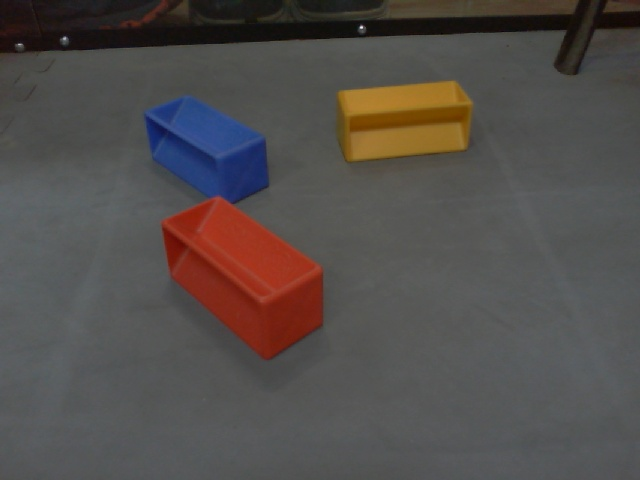BlueSample: (136, 90, 272, 207)
RedSample: (158, 196, 325, 361)
YellowSample: (334, 77, 474, 169)
